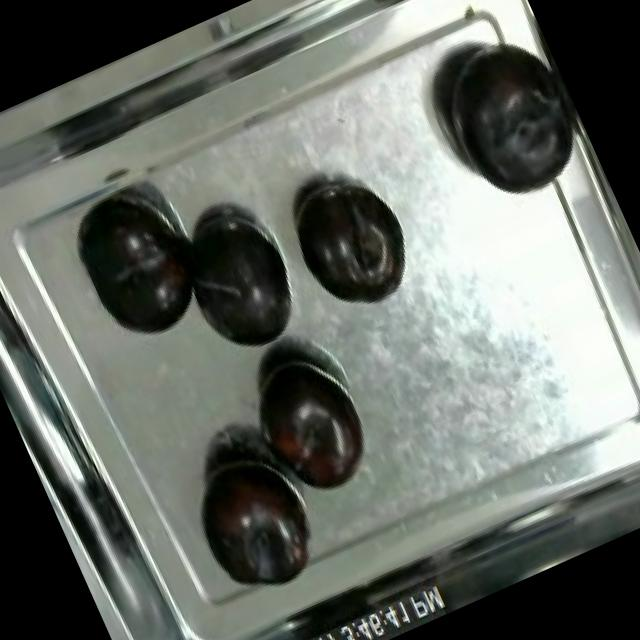Fruit: (416, 18, 596, 218), (54, 175, 220, 364), (172, 432, 338, 614), (158, 194, 322, 378), (226, 334, 384, 514), (269, 156, 426, 328)
